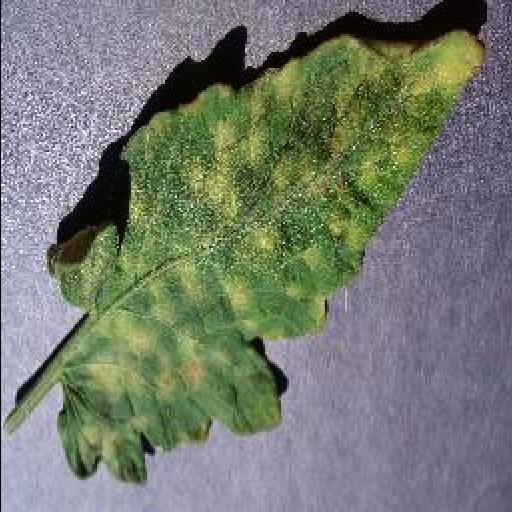disease_tomato: (46, 28, 486, 486)
